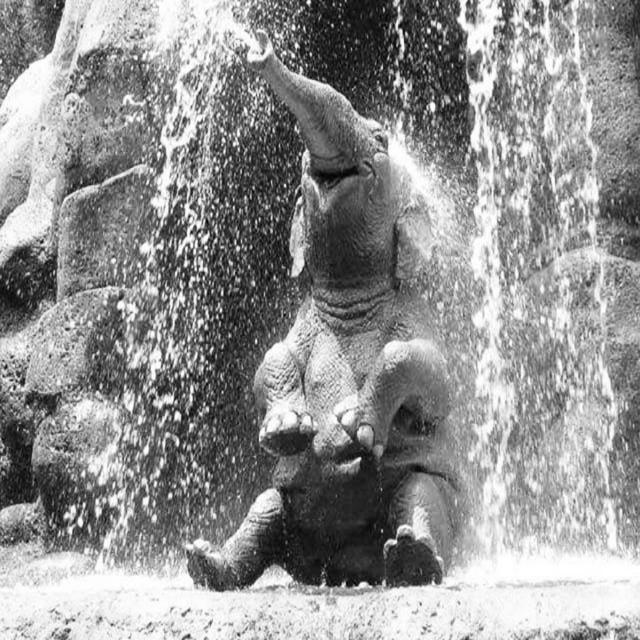Dog: (184, 26, 468, 591)
